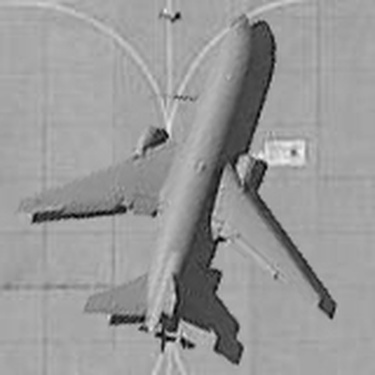airplane: (8, 1, 355, 350)
